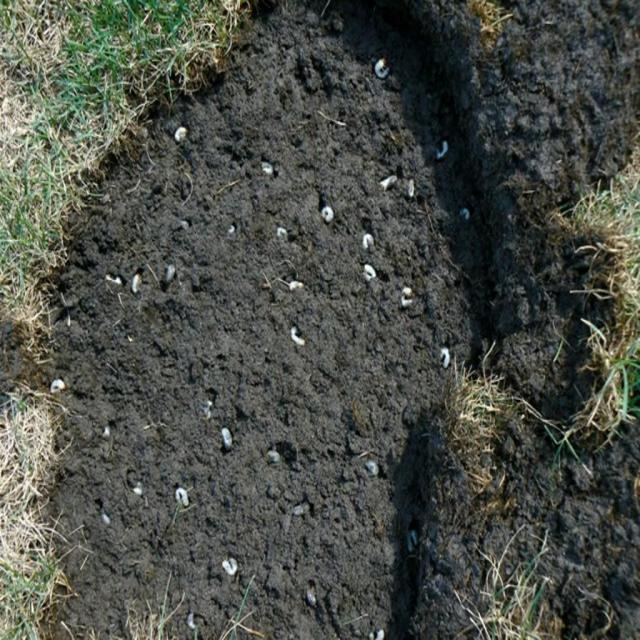Grub-Adult-: (215, 554, 248, 584), (284, 320, 314, 350), (219, 424, 242, 458), (373, 50, 397, 80), (169, 485, 193, 513), (253, 157, 281, 180), (434, 345, 454, 377), (356, 229, 381, 254), (128, 271, 149, 300), (318, 200, 337, 232), (359, 263, 385, 286), (48, 369, 70, 396), (167, 124, 190, 142)
